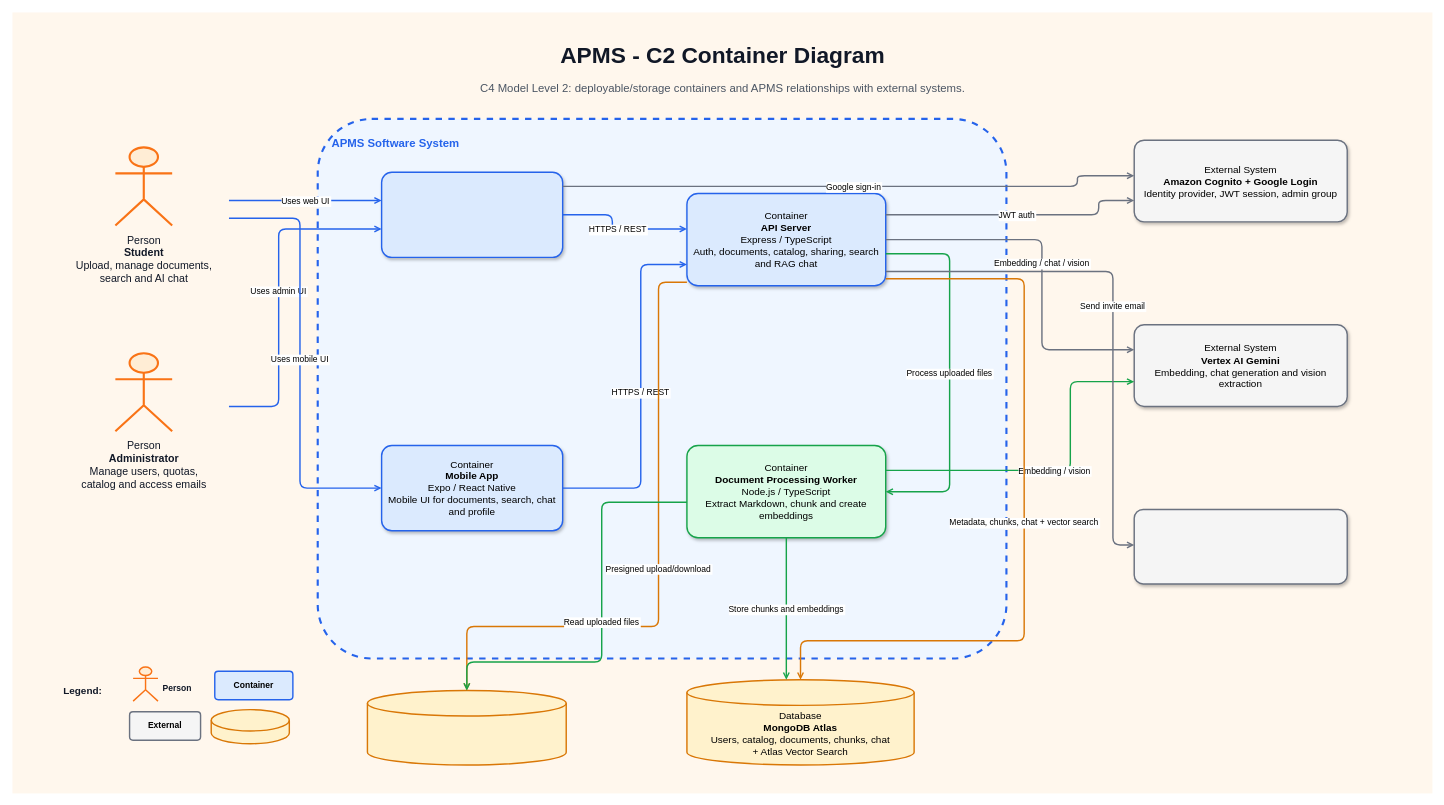
Image size: 1444x805. Some labels were removed from this diagram. Here are the shapes that lost their labels. From the top down, the centre of each, then its label:
the point at 472,215: Container Web App Next.js / React Drive, viewer, chat and admin UI
the point at 1241,547: External System Amazon SES Invite email and notification email
the point at 250,726: Data Store
the point at 466,727: Object Storage Amazon S3 Original PDF/DOCX/PPTX files
